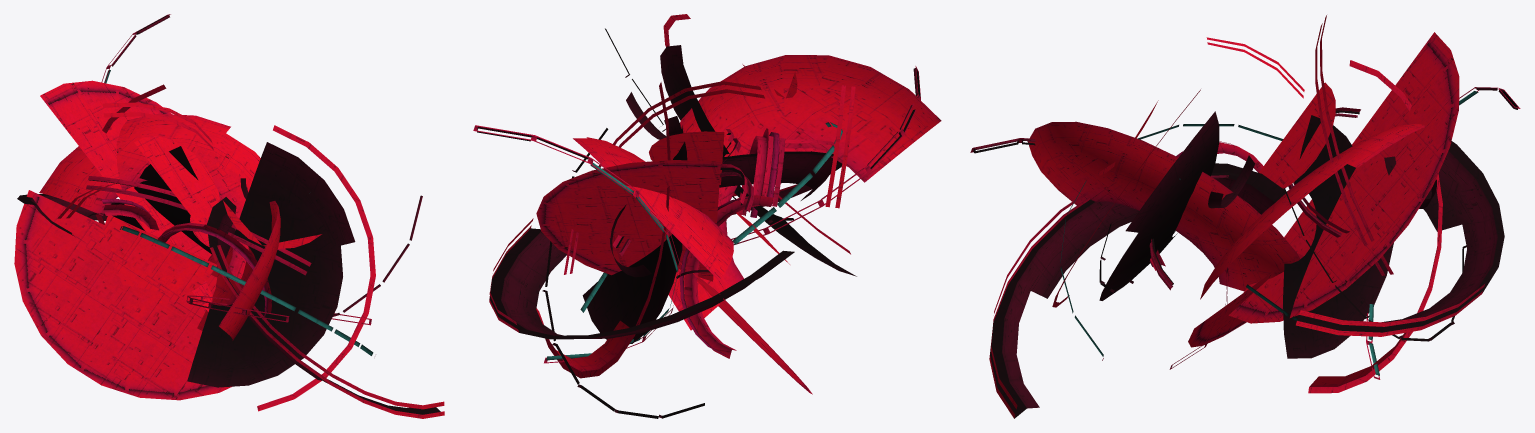
Rendered from MonsterB_Die11.obj.
3 renders of one model, left to right at view 1: azimuth 30°, elevation 25°; view 2: azimuth 150°, elevation 25°; view 3: azimuth 270°, elevation 25°, orthographic. The views are drawn at different scales.
Visible parts, largest first — view 1: Sphere001; view 2: Sphere001; view 3: Sphere001.
Boxes of the visible parts, x1,y1,x2,y2 form: Sphere001: [14, 14, 444, 418]; Sphere001: [473, 14, 941, 418]; Sphere001: [970, 15, 1520, 418].
Bounding box in the file's own units: 210 × 193 × 315.
Materials: 1 (1 with a texture image).
